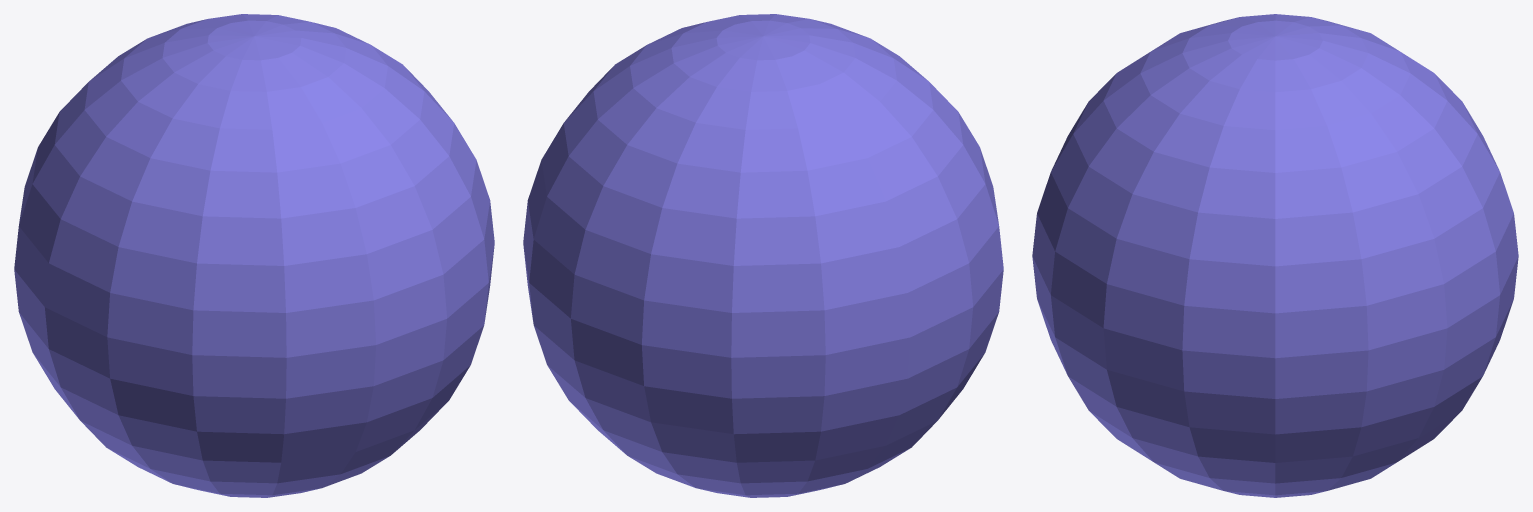
Rendered from zemplya.fbx.
3 renders of one model, left to right at view 1: azimuth 30°, elevation 25°; view 2: azimuth 150°, elevation 25°; view 3: azimuth 270°, elevation 25°, orthographic.
Parts seen in each view (by area): view 1: Cube; view 2: Cube; view 3: Cube.
Boxes of the visible parts, box(x1,y1,x2,y2) form: Cube: box(14, 14, 494, 497); Cube: box(523, 14, 1003, 497); Cube: box(1032, 14, 1518, 497).
Bounding box in the file's own units: 355 × 355 × 356.
